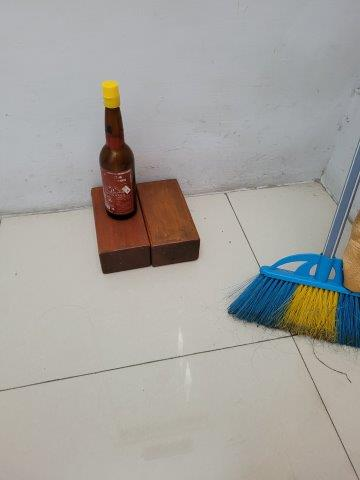botolkaca: (100, 80, 140, 222)
